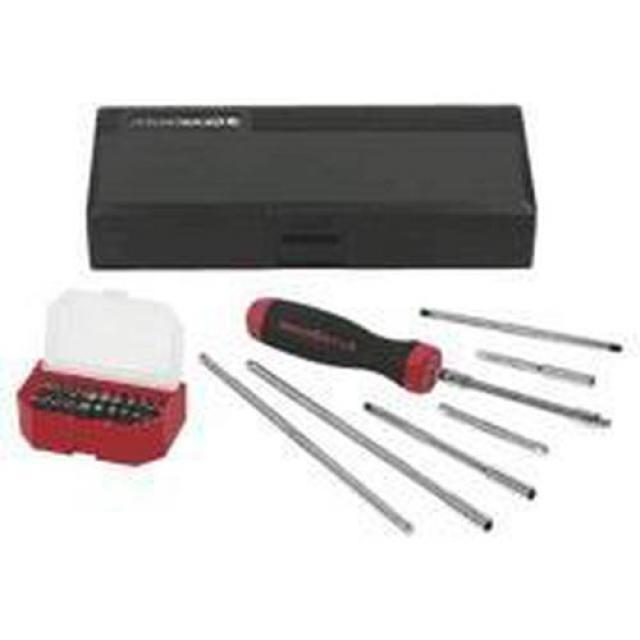screwdriver: (239, 293, 610, 447)
